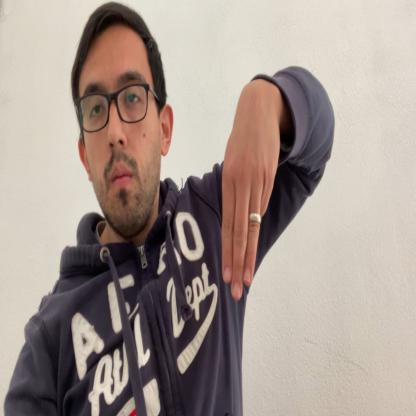M: (220, 77, 280, 300)
